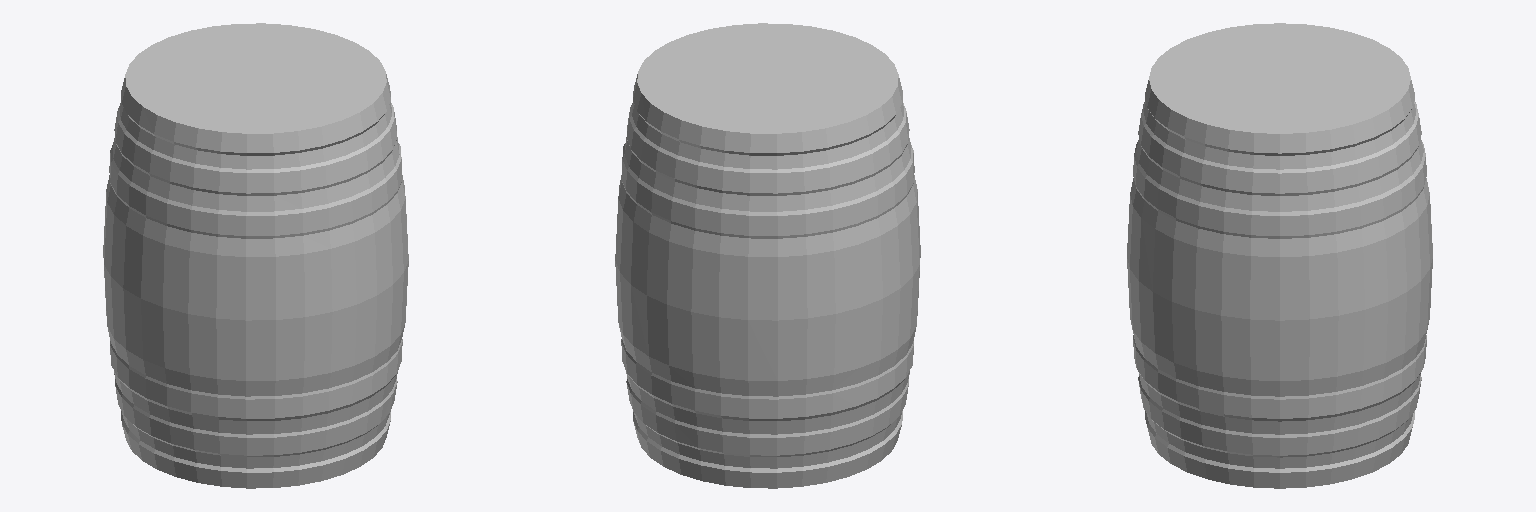
The model's file is barrel.obj.
3 views of the same model, side by side, from view 1: azimuth 30°, elevation 25°; view 2: azimuth 150°, elevation 25°; view 3: azimuth 270°, elevation 25° (orthographic).
Visible parts, largest first — view 1: default; view 2: default; view 3: default.
Part boxes in pixels (bbox=[...]): default: bbox=[103, 23, 408, 488]; default: bbox=[615, 23, 920, 488]; default: bbox=[1127, 23, 1432, 488].
Bounding box in the file's own units: 2.62 × 3.35 × 2.62.